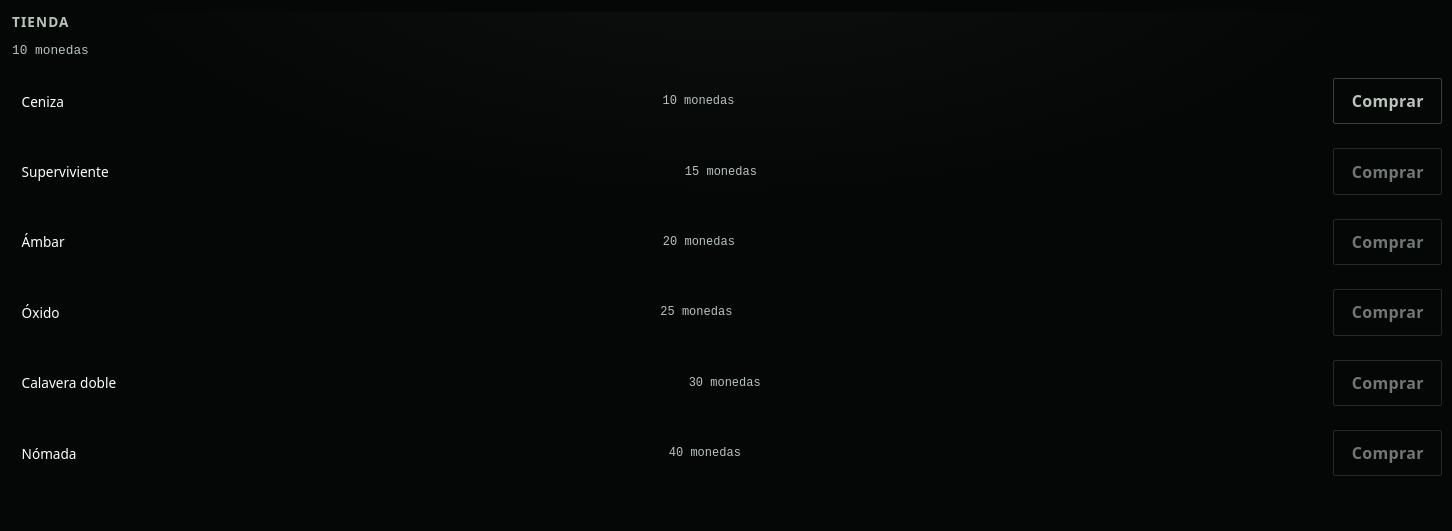
Test case: ShopPanel › borra el aviso anterior cuando se intenta otra compra
Expected: the text with class "shop-panel__balance" is shown, [12, 43, 89, 58]
Click the button "Comprar" in the row of "Ceniza".
click(1388, 101)  # box [1333, 78, 1442, 124]
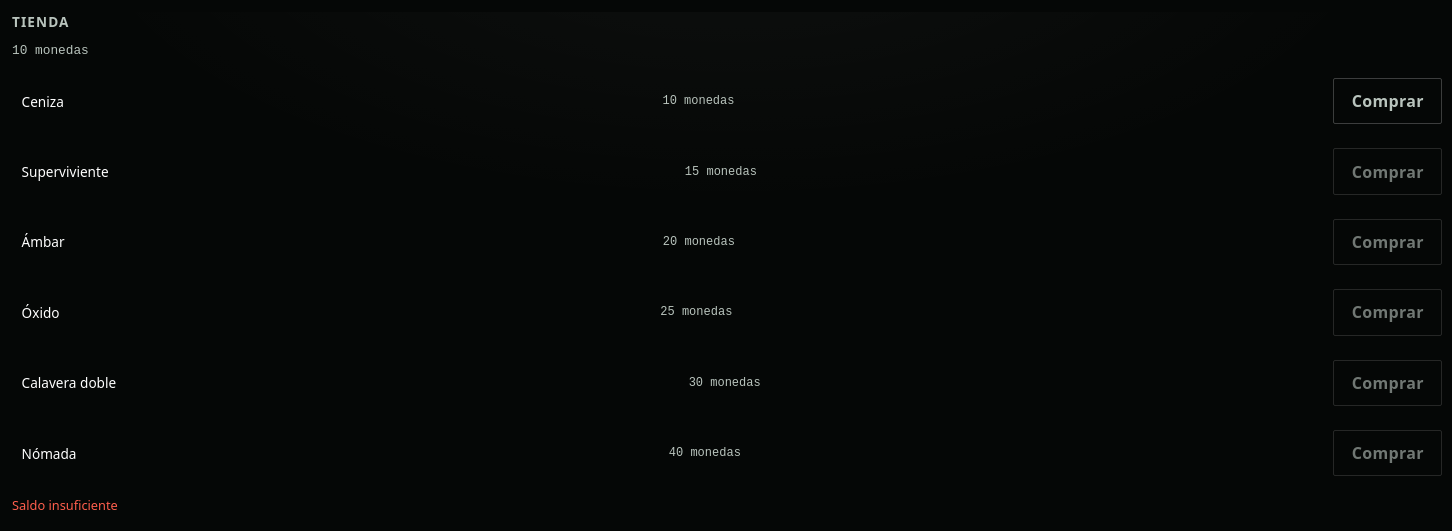
Expected: the message reads "Saldo insuficiente", [12, 496, 118, 514]
Click the button "Comprar" in the row of "Ceniza".
click(1388, 101)  # box [1333, 78, 1442, 124]
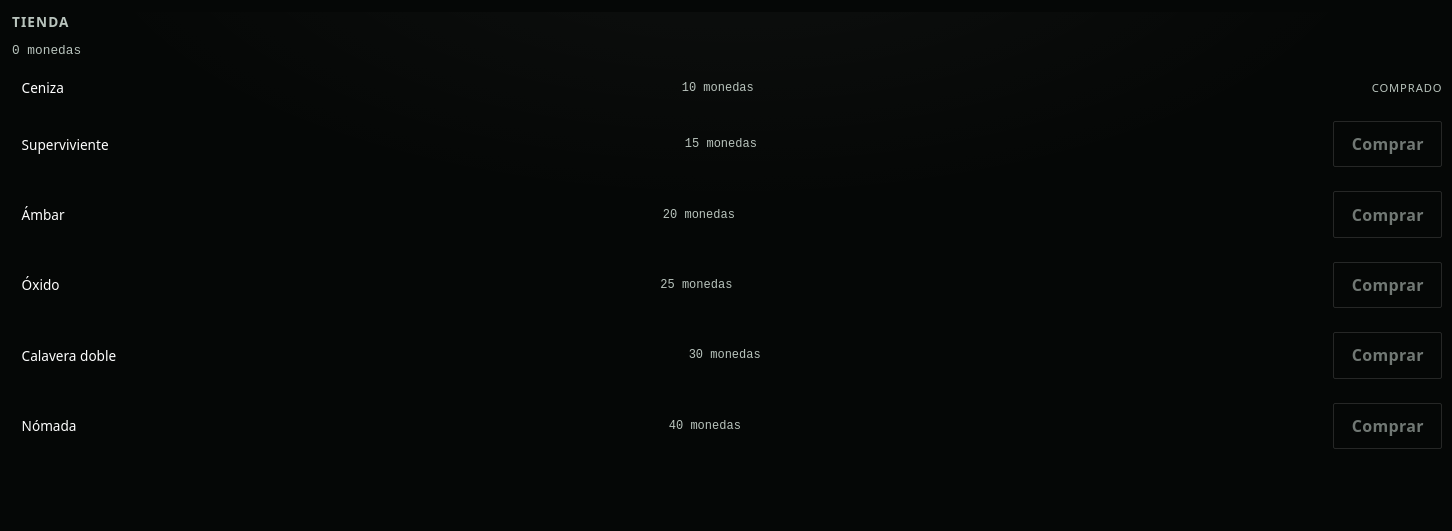
Expected: the text "Comprado" is shown, [1372, 80, 1442, 95]
Expected: the message "Saldo insuficiente" is gone
